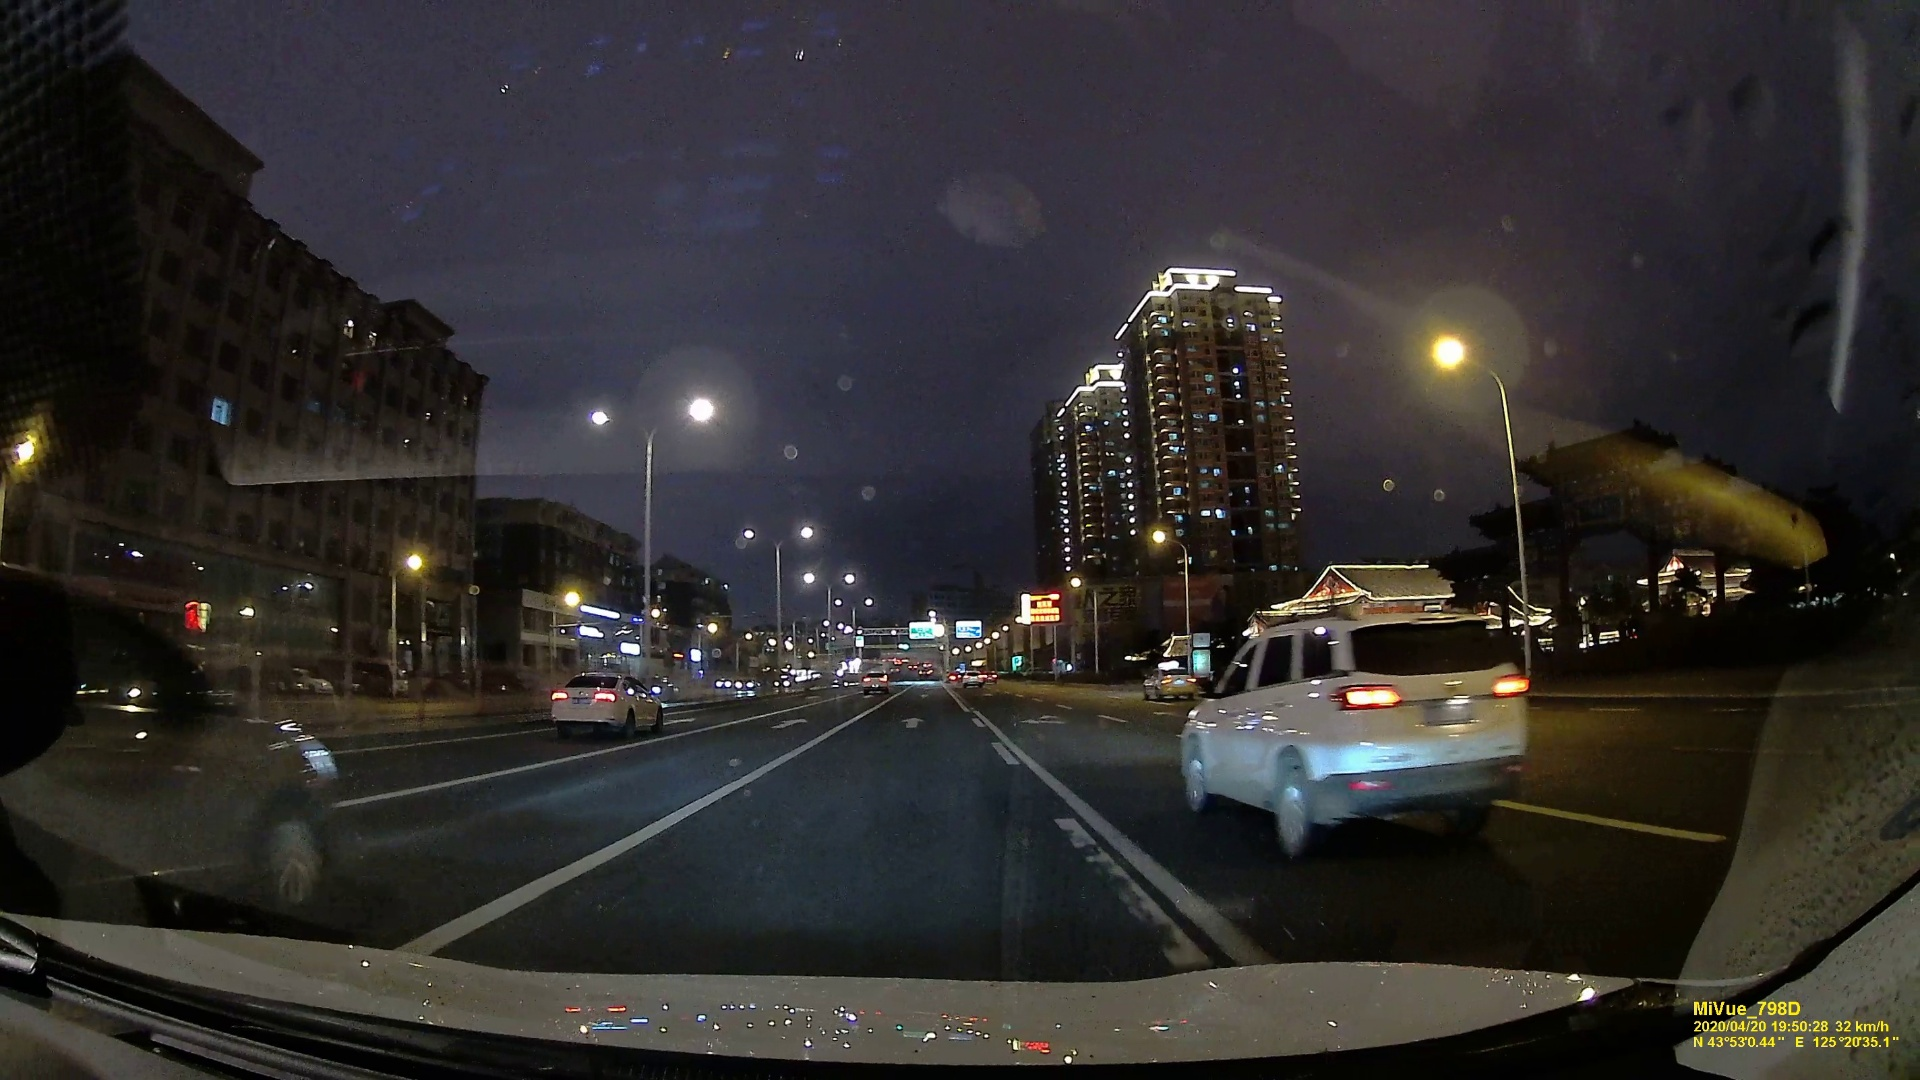traffic_sign: (909, 620, 934, 638), (957, 618, 981, 636)
vehicle: (1, 568, 342, 916), (1180, 608, 1531, 851), (550, 669, 665, 736), (1145, 670, 1195, 702), (861, 673, 890, 694), (961, 670, 984, 688)
